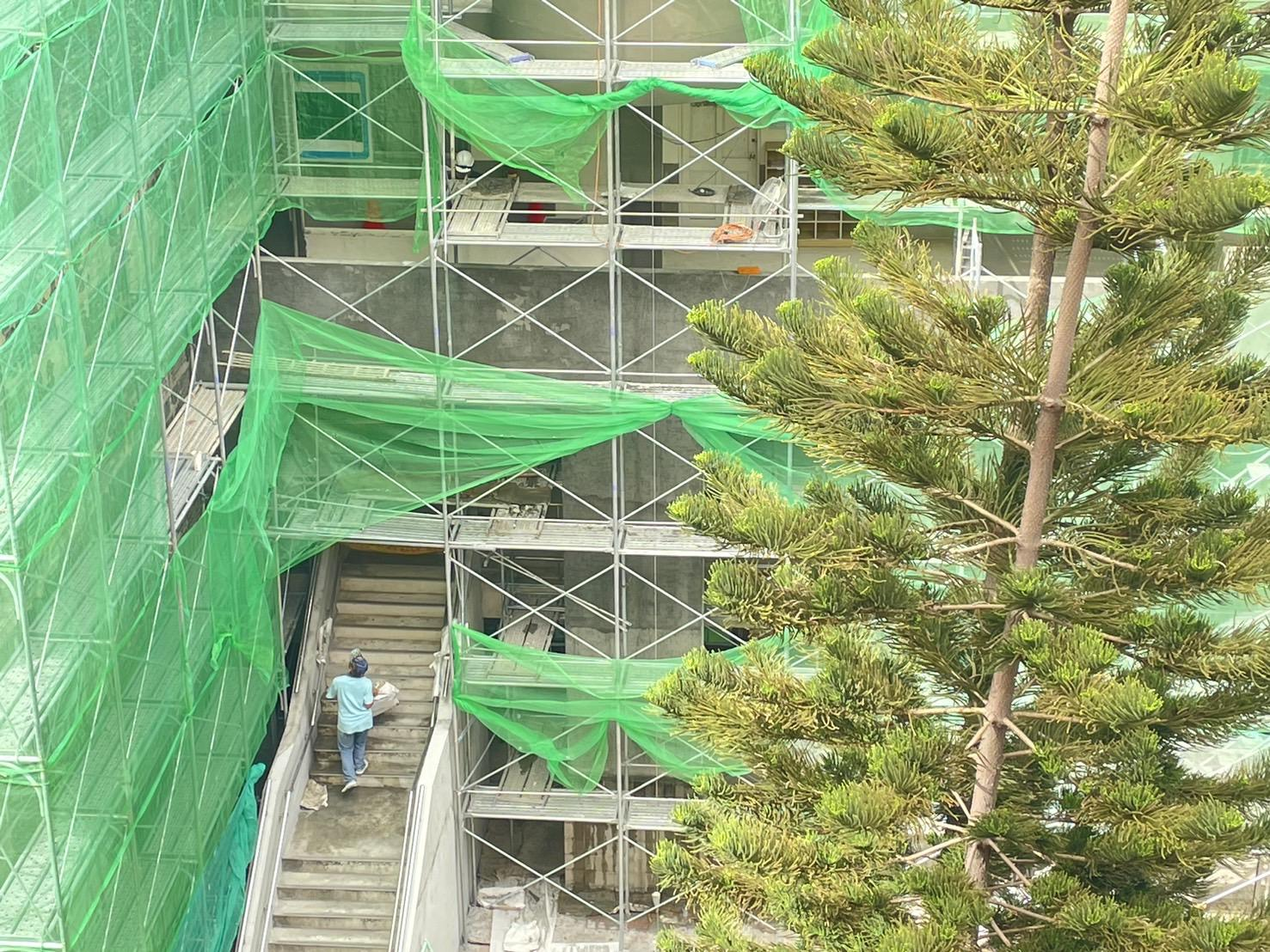NoVest: (337, 678, 373, 732)
